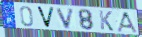0: (19, 6, 34, 27)
8: (78, 8, 95, 32)
A: (116, 11, 139, 34)
K: (98, 10, 115, 32)
V: (35, 5, 56, 29), (56, 7, 77, 30)
